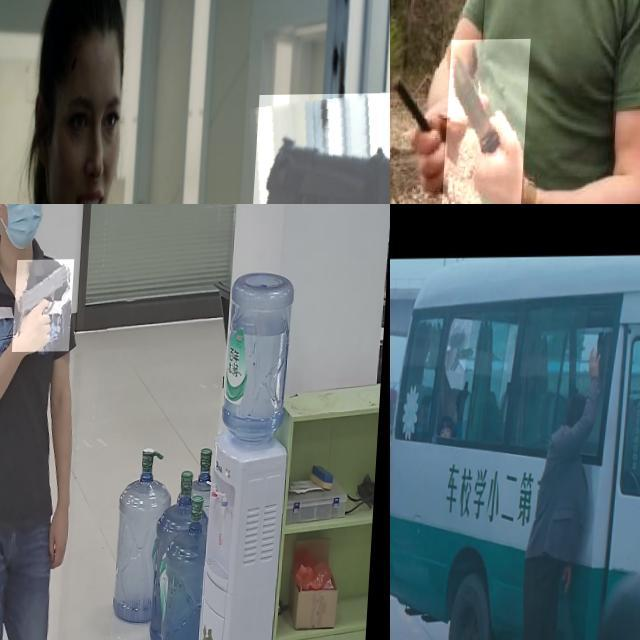-: (444, 40, 532, 204)
gun-knife-thesis - v11 Yolov5 augmented: (245, 93, 390, 204), (15, 260, 76, 353), (390, 493, 443, 562)
